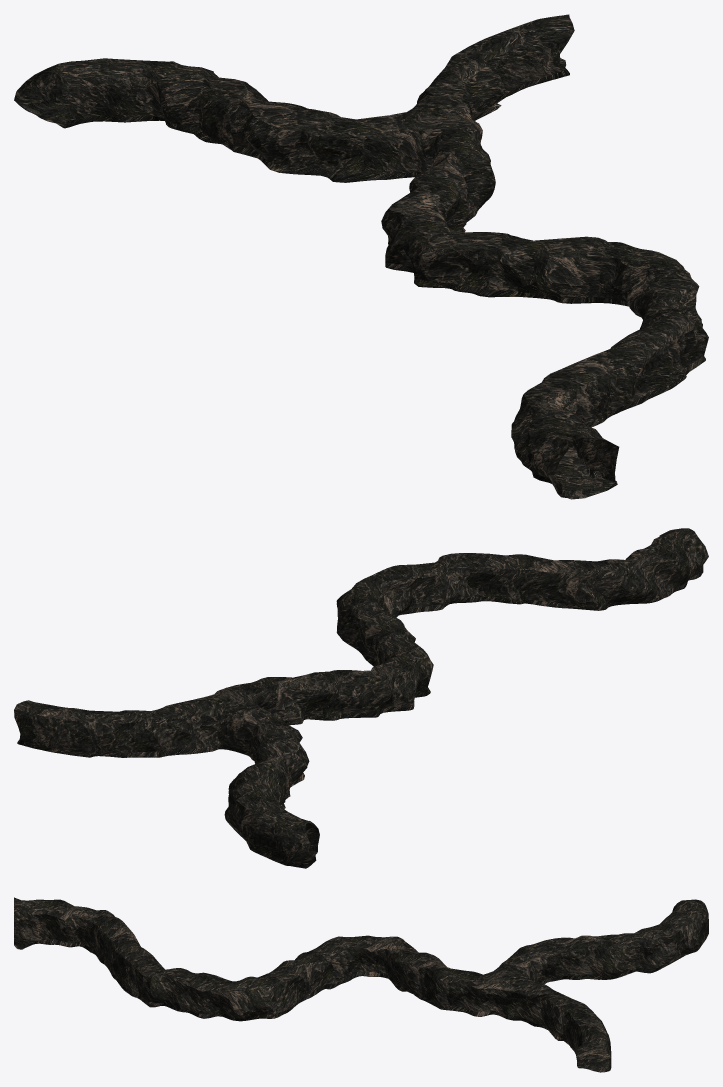
Rendered from CuevaTutorial2.fbx.
3 views of the same model, one above another, from view 1: azimuth 30°, elevation 25°; view 2: azimuth 150°, elevation 25°; view 3: azimuth 270°, elevation 25° (orthographic). The views are drawn at different scales.
Visible parts, largest first — view 1: Cube; view 2: Cube; view 3: Cube.
Part boxes in pixels (x1,y1,x2,y2): Cube: (14,14,708,499); Cube: (14,528,708,868); Cube: (14,897,708,1072).
Size of the model in its own units: 12825 by 1592 by 24815.
Materials: 1 (1 with a texture image).
